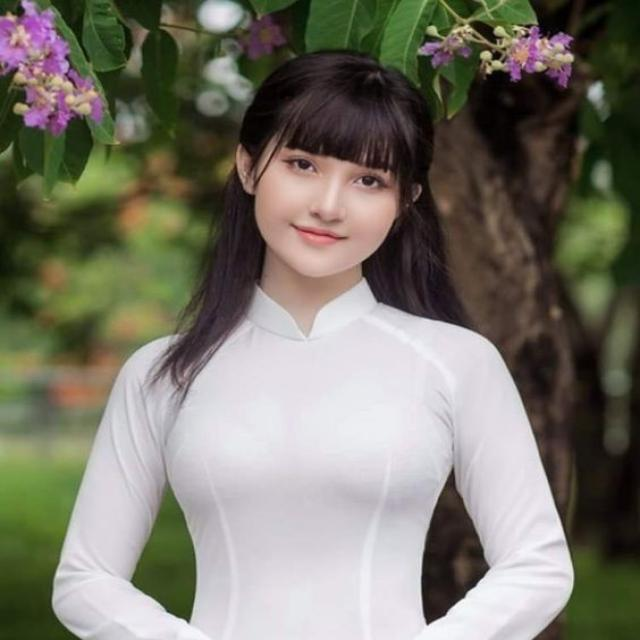Nonhelmet: (213, 41, 433, 282)
